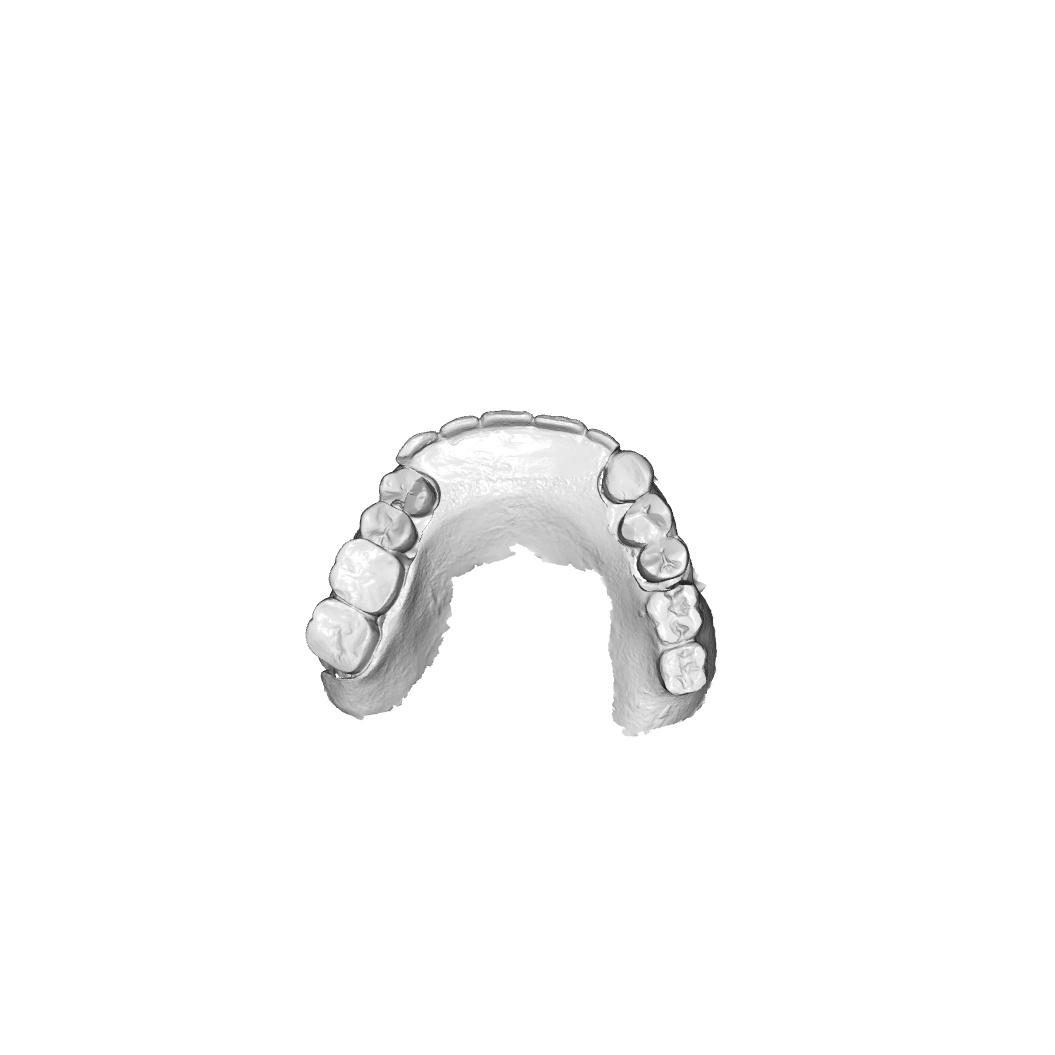canine: (602, 449, 656, 505), (394, 429, 441, 470)
incisor: (534, 412, 588, 446), (479, 407, 534, 439), (583, 427, 621, 463), (438, 413, 481, 442)
molar: (327, 537, 406, 617), (304, 595, 380, 676), (644, 580, 705, 645), (656, 641, 708, 698)
premolar: (617, 492, 674, 549), (359, 500, 419, 554), (378, 467, 440, 518), (635, 534, 691, 584)
